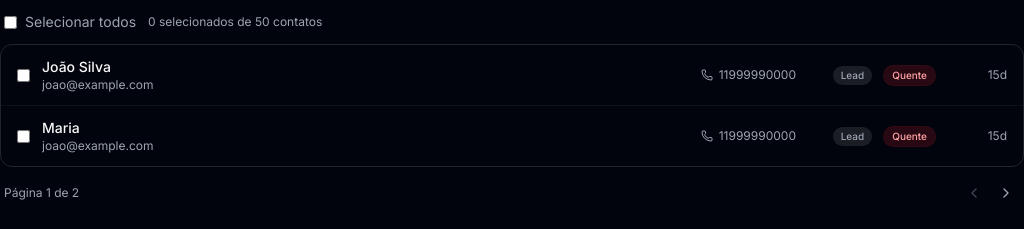
Test: FilteredContactsList › renders cross-page select all button when totalCount > page contacts
// Select all on page first
Click the text "Selecionar todos" at coordinates (70, 22), box [4,12,136,32]
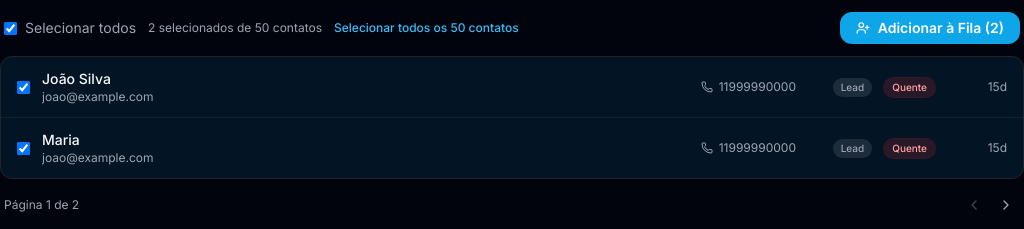
Result: the button "Selecionar todos os 50 contatos" is shown at [334,20,519,36]
